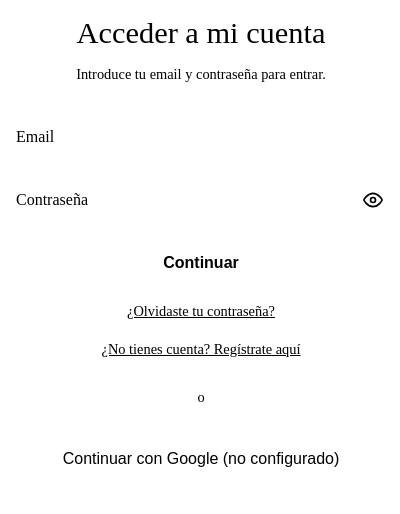
Test: Login — iniciar sesión › el título de la página es su h1, también al pasar a "Crear una cuenta" (H43)
Check: the heading "Acceder a mi cuenta" is shown, box [76,16,325,50]
Click the button "¿No tienes cuenta? Regístrate aquí" at coordinates (201, 349), box [96,340,306,359]
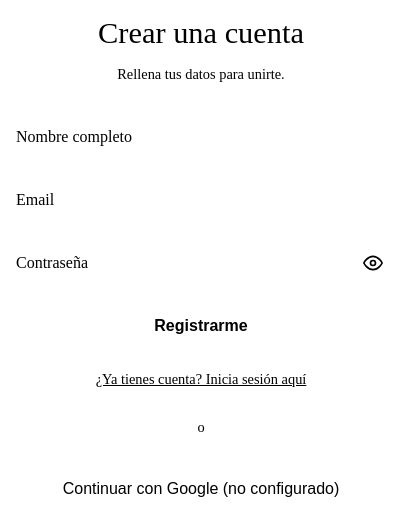
Check: the number of headings is 1, box [98,16,304,50]
Check: the heading "Crear una cuenta" is shown, box [98,16,304,50]
